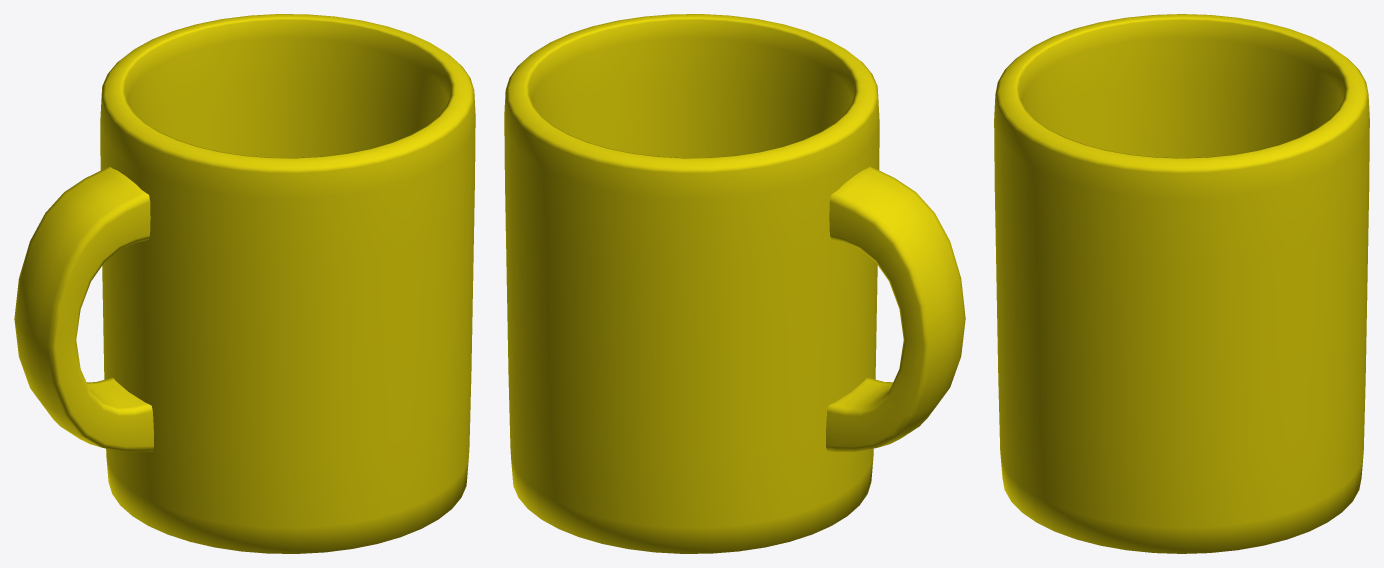
The model's file is Mug.fbx.
The picture shows the model from 3 angles, left to right: view 1: azimuth 30°, elevation 25°; view 2: azimuth 150°, elevation 25°; view 3: azimuth 270°, elevation 25°; orthographic projection.
Visible parts, largest first — view 1: Mug; view 2: Mug; view 3: Mug.
Part boxes in pixels (x1,y1,x2,y2): Mug: (14, 14, 475, 553); Mug: (504, 14, 965, 553); Mug: (994, 14, 1369, 553).
Bounding box in the file's own units: 46.11 × 40.91 × 35.36.
